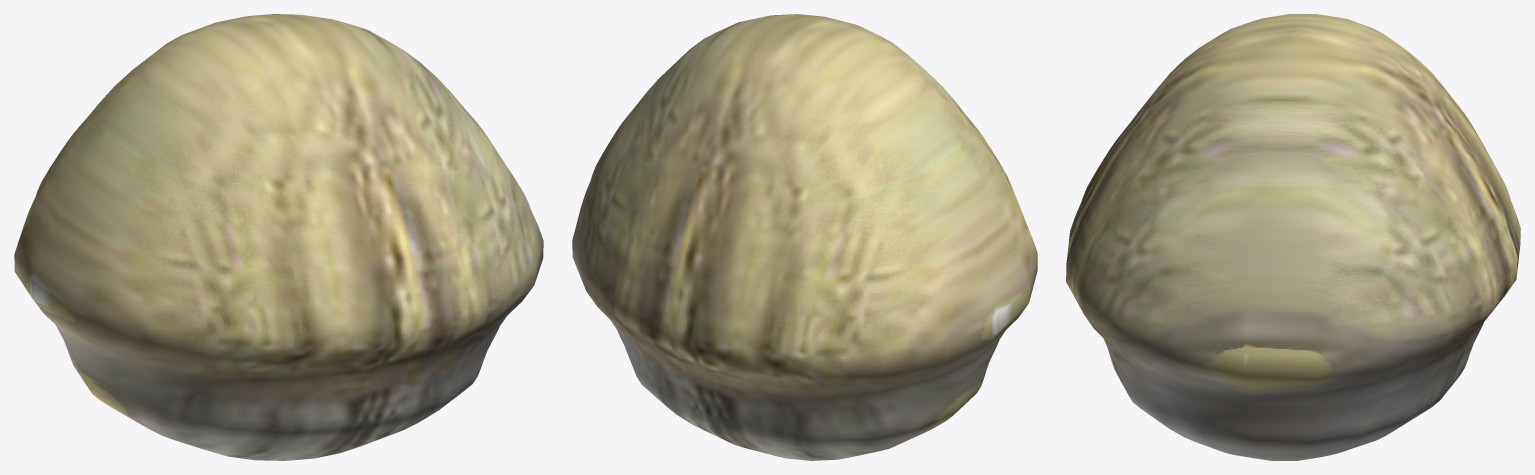
Rendered from Project Name.obj.
The picture shows the model from 3 angles, left to right: view 1: azimuth 30°, elevation 25°; view 2: azimuth 150°, elevation 25°; view 3: azimuth 270°, elevation 25°; orthographic projection. The views are drawn at different scales.
Parts seen in each view (by area): view 1: 000_Cylinder_-_baked; view 2: 000_Cylinder_-_baked; view 3: 000_Cylinder_-_baked.
Boxes of the visible parts, x1,y1,x2,y2 form: 000_Cylinder_-_baked: [14, 14, 543, 460]; 000_Cylinder_-_baked: [572, 14, 1037, 460]; 000_Cylinder_-_baked: [1066, 14, 1520, 460].
Size of the model in its own units: 271 by 238 by 246.
Materials: 1 (1 with a texture image).
